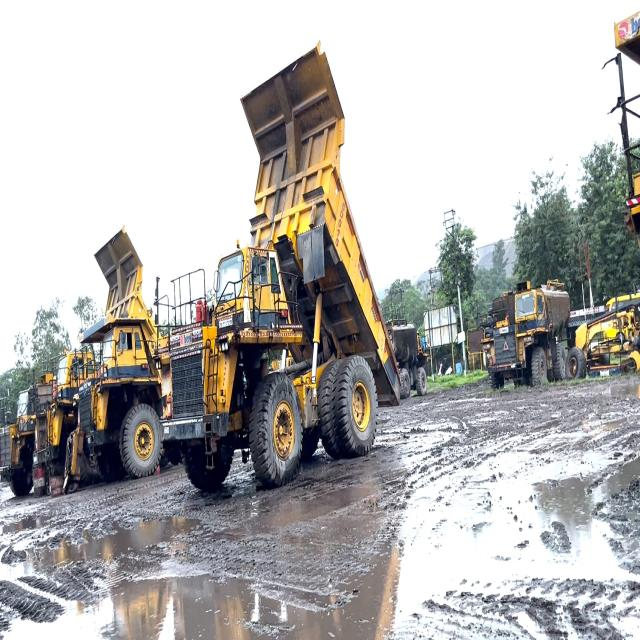dump_truck: (154, 42, 399, 481), (82, 328, 154, 466), (484, 271, 567, 380), (6, 380, 34, 495)
